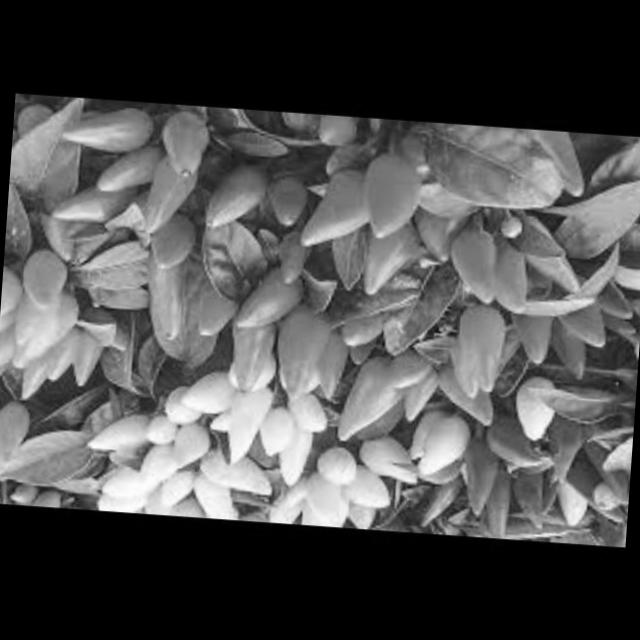ot cay: (72, 366, 336, 526), (17, 96, 227, 292), (399, 384, 635, 548), (190, 242, 392, 412), (343, 186, 578, 332), (328, 308, 516, 463), (262, 411, 460, 536), (0, 241, 122, 415), (512, 257, 640, 393), (296, 158, 376, 265), (494, 128, 598, 204), (135, 247, 208, 353), (193, 154, 270, 240), (351, 148, 416, 242), (0, 388, 47, 488), (254, 174, 301, 238), (304, 116, 364, 164)
